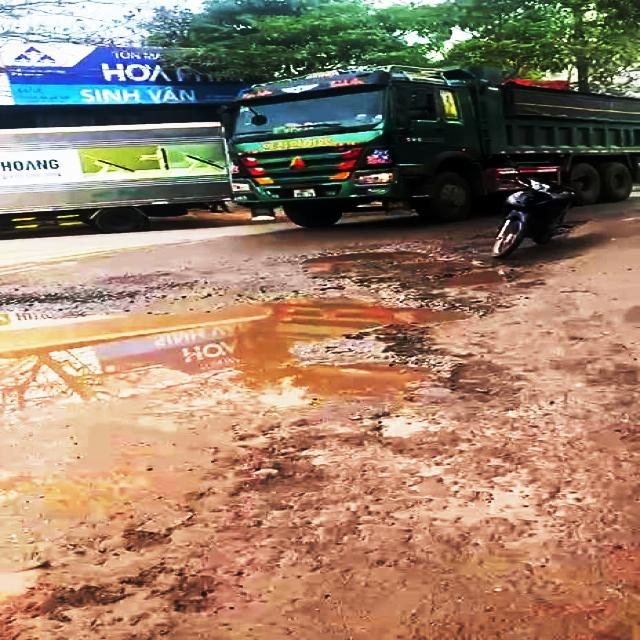pothole: (0, 286, 495, 439), (304, 242, 526, 294)
